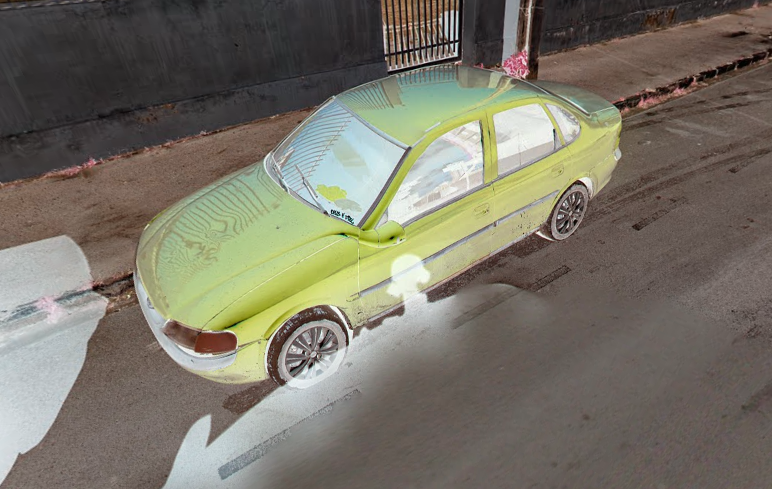car: (128, 60, 625, 409)
